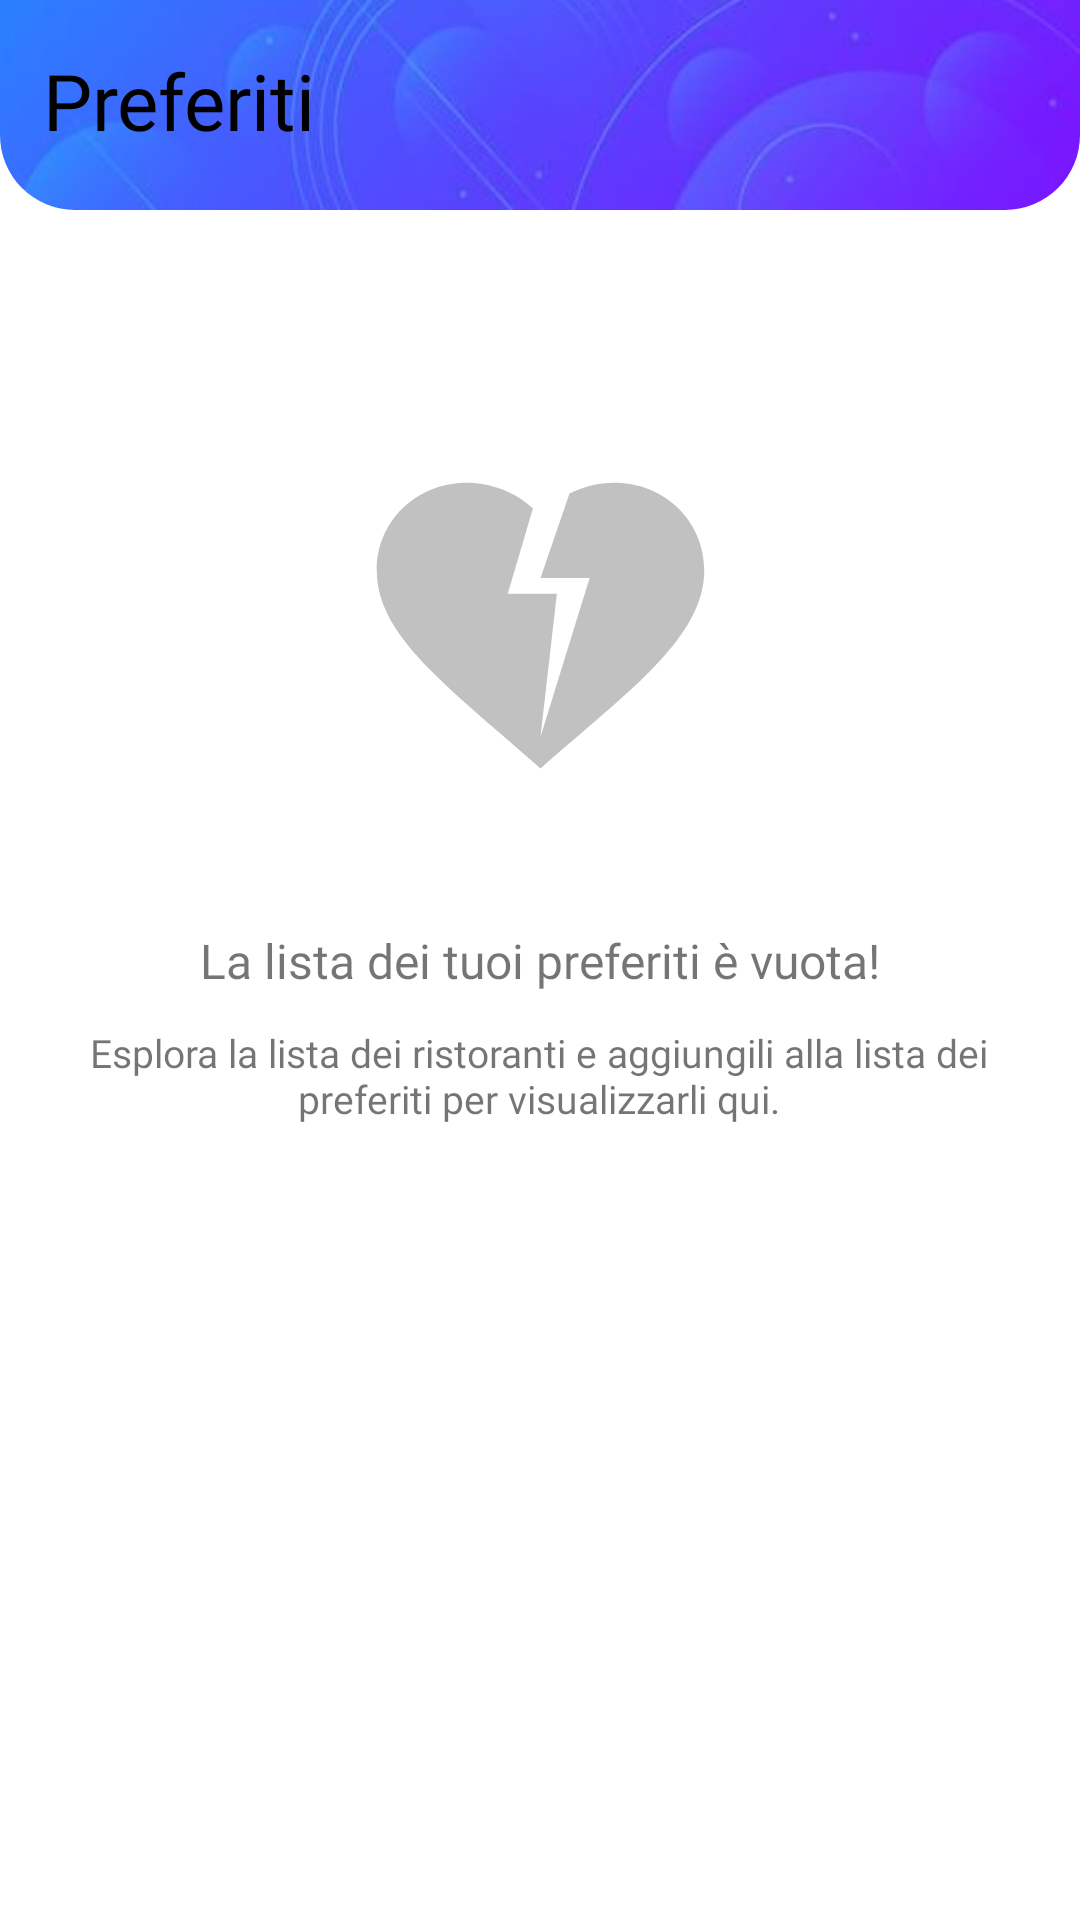

Locate icon controls on the screen. Image size 1080 × 1920, boxes as (x1, y1, x2, y2).
heart broken: (377, 483, 704, 768)
